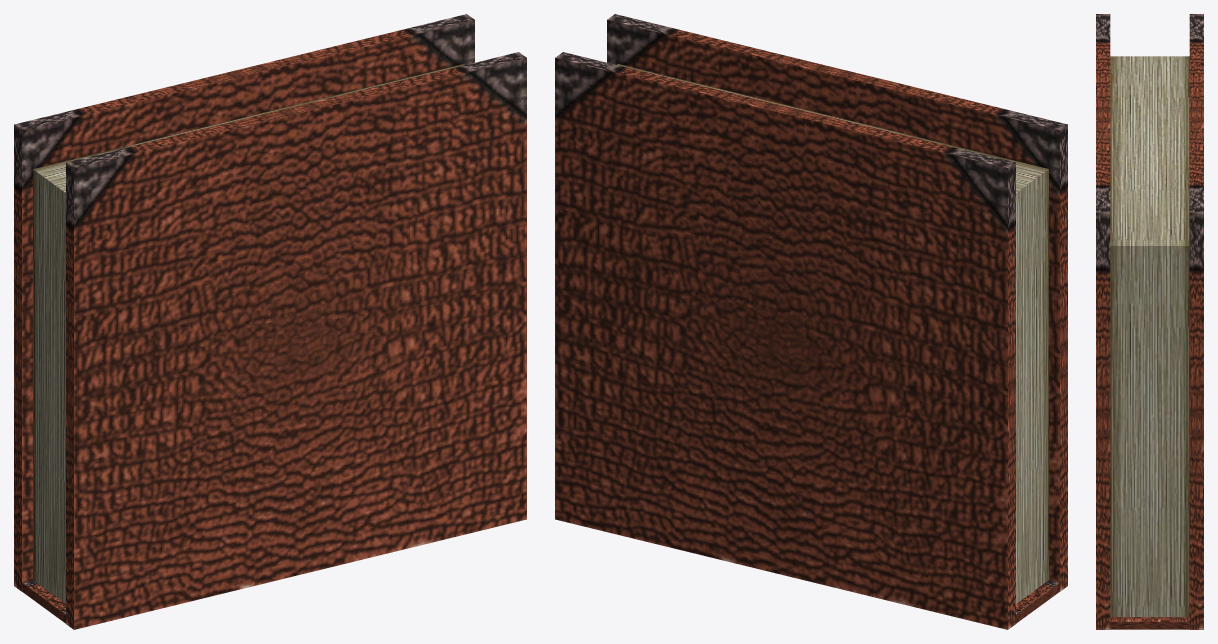
The picture shows the model from 3 angles, left to right: view 1: azimuth 30°, elevation 25°; view 2: azimuth 150°, elevation 25°; view 3: azimuth 270°, elevation 25°; orthographic projection. The views are drawn at different scales.
Parts seen in each view (by area): view 1: it10645; view 2: it10645; view 3: it10645.
Part boxes in pixels (<box>): it10645: <box>14,14,526,629</box>; it10645: <box>555,14,1067,629</box>; it10645: <box>1096,14,1203,629</box>.
Size of the model in its own units: 0.7546 by 0.7352 by 0.1727.
4 materials, 4 textured.
